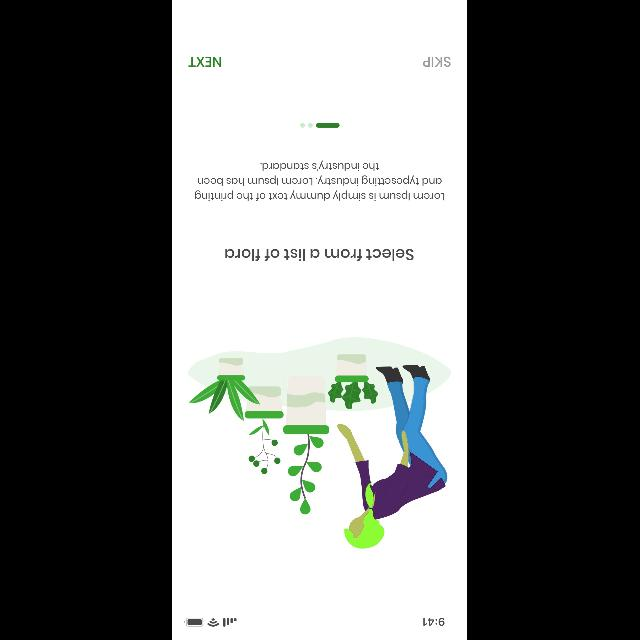image: (188, 338, 452, 548)
pageindicator: (300, 122, 340, 128)
text: (195, 161, 445, 201), (226, 249, 414, 261), (188, 56, 222, 68), (423, 57, 451, 67)
uppertaskbar: (184, 618, 446, 626)
